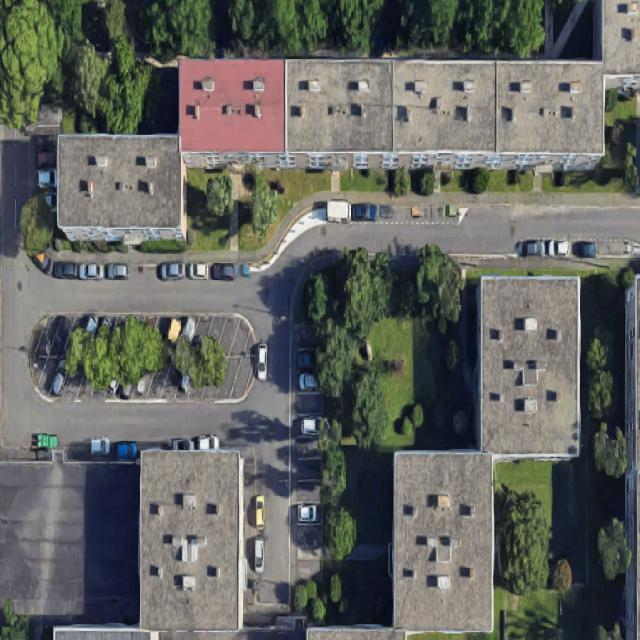immeuble: (138, 450, 246, 632), (474, 274, 580, 457), (390, 452, 494, 631), (54, 135, 186, 243), (177, 57, 284, 153), (284, 58, 392, 151), (495, 63, 605, 153), (392, 61, 496, 151), (604, 0, 639, 72), (54, 626, 149, 639), (306, 627, 406, 639)
